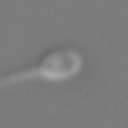normal: (1, 65, 41, 90)
